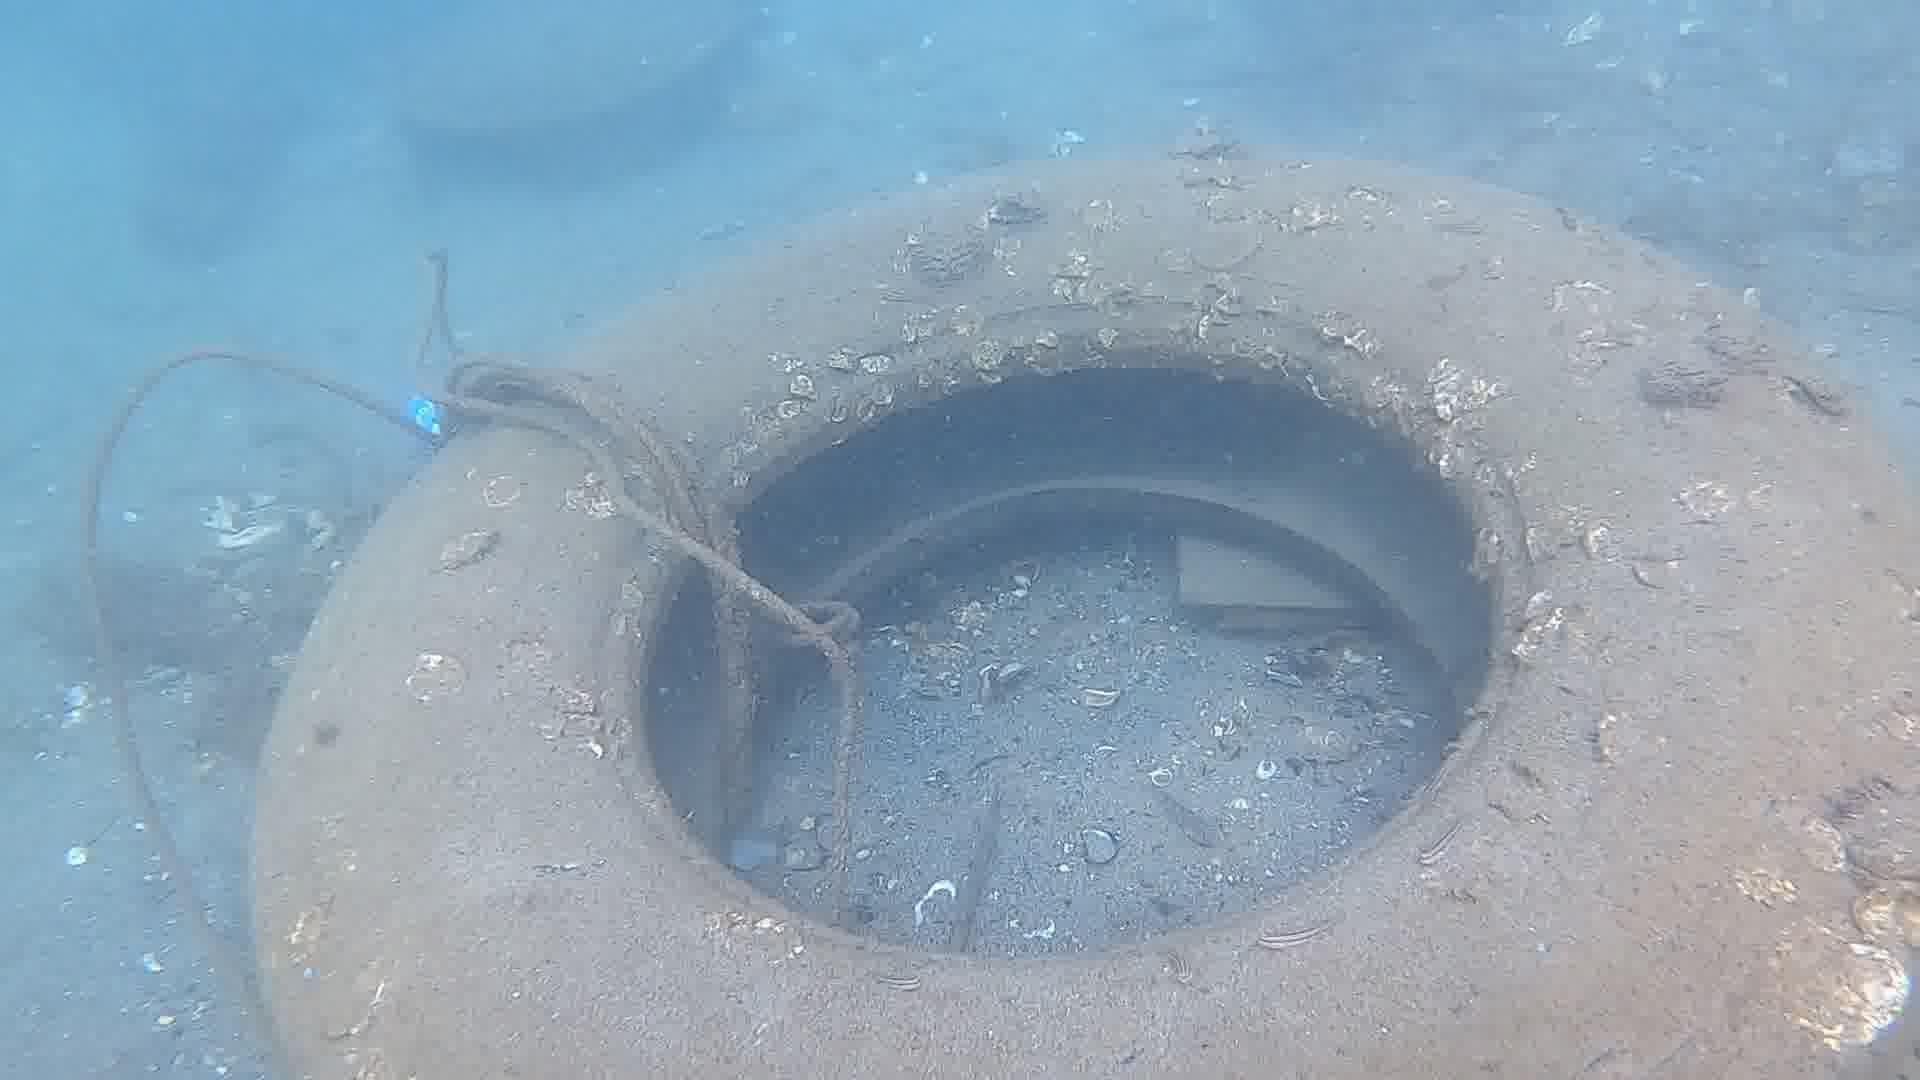bundle of ropes: (80, 247, 864, 1080)
tire: (245, 149, 1920, 1080)
